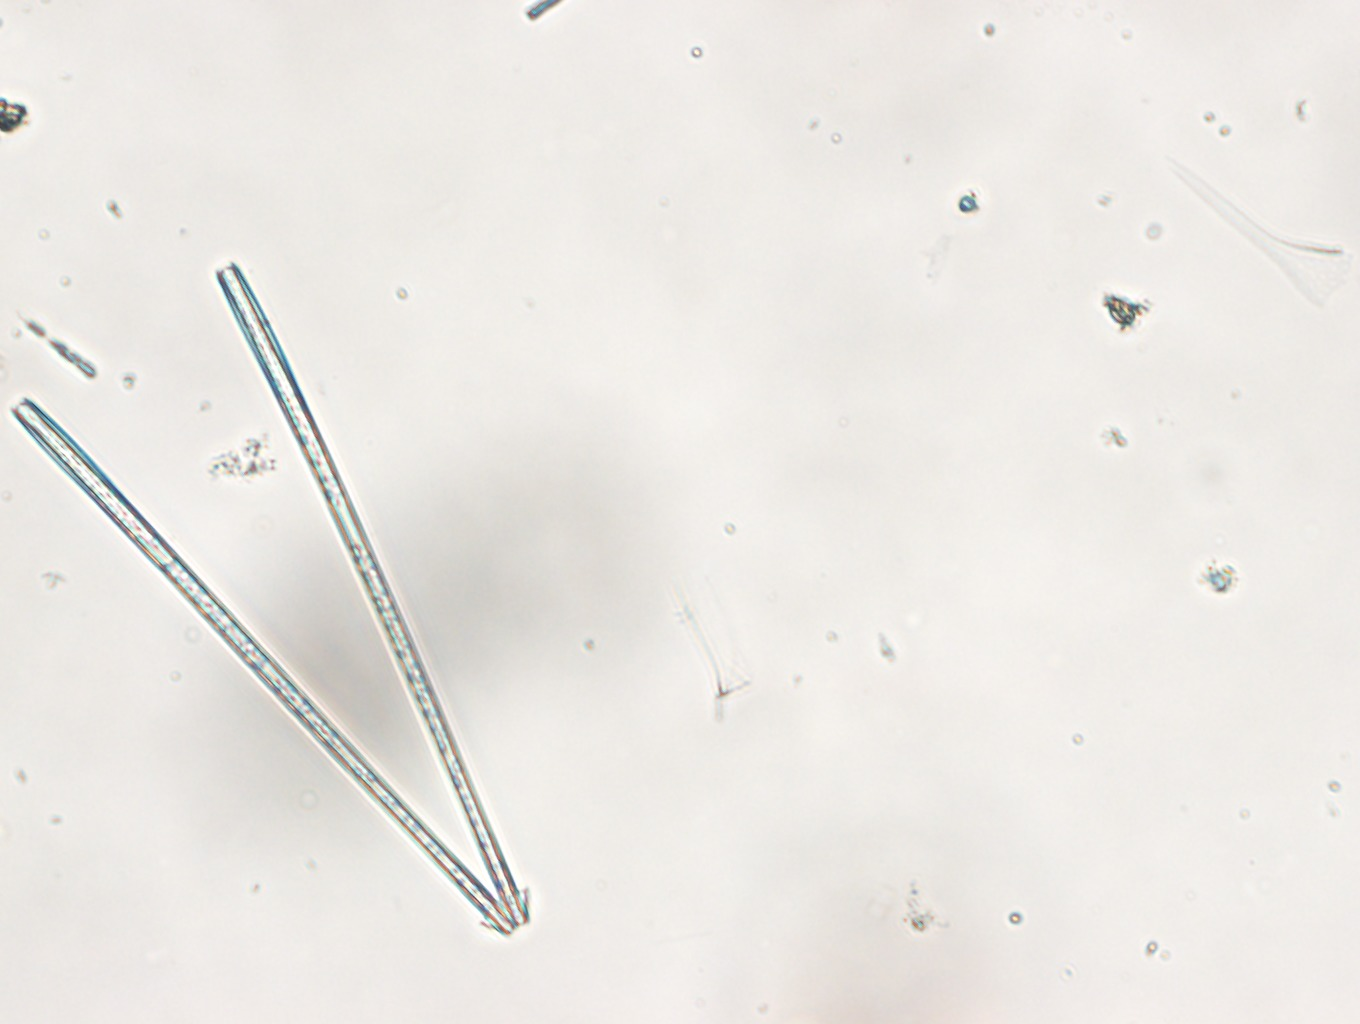thalassionema frauenfeldii: (10, 260, 529, 936)
